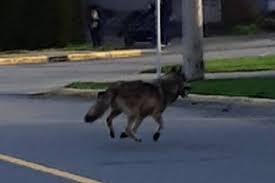Wolf: (84, 63, 193, 146)
